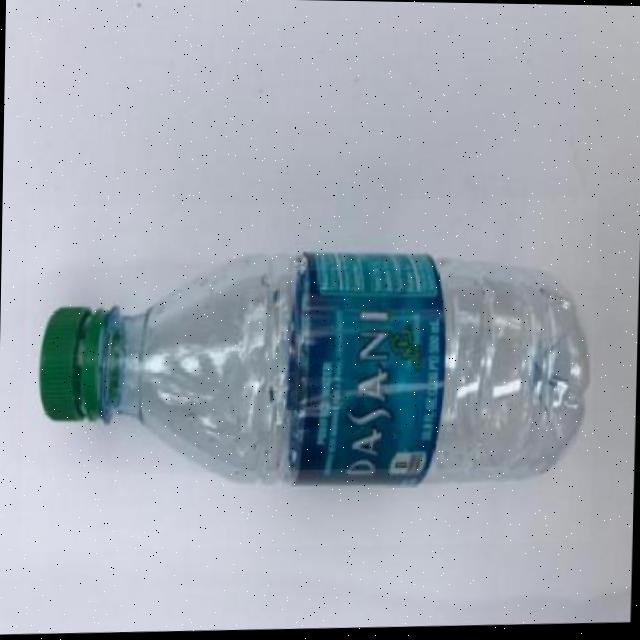bottle: (21, 191, 598, 562)
cap: (38, 305, 130, 422)
label: (281, 238, 444, 492)
